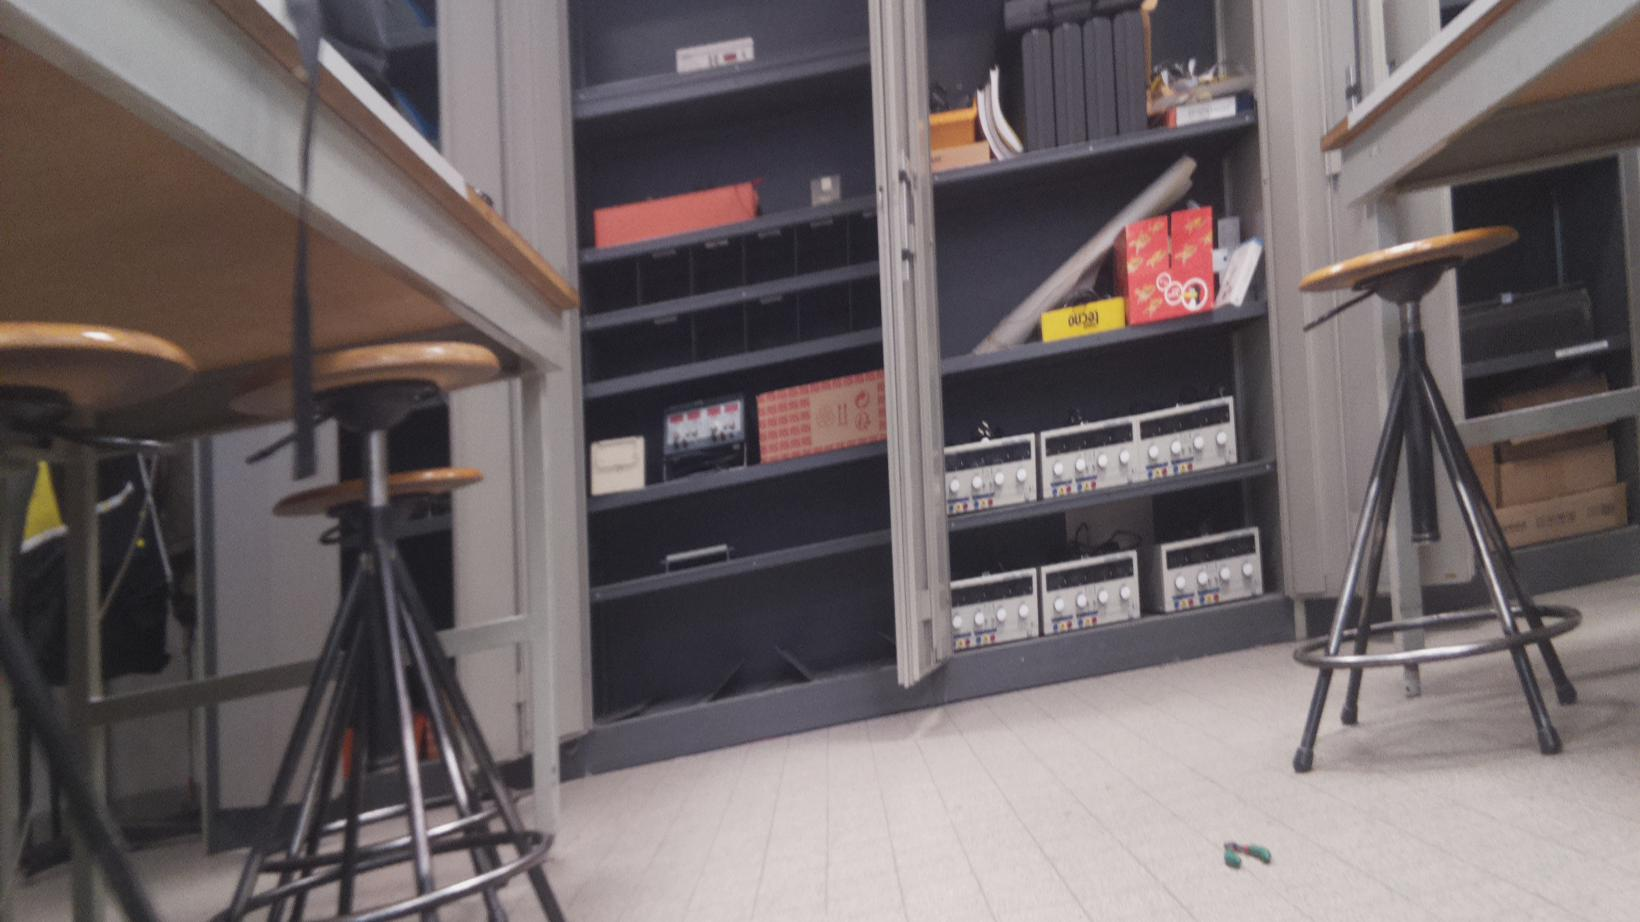small: (1216, 836, 1278, 874)
